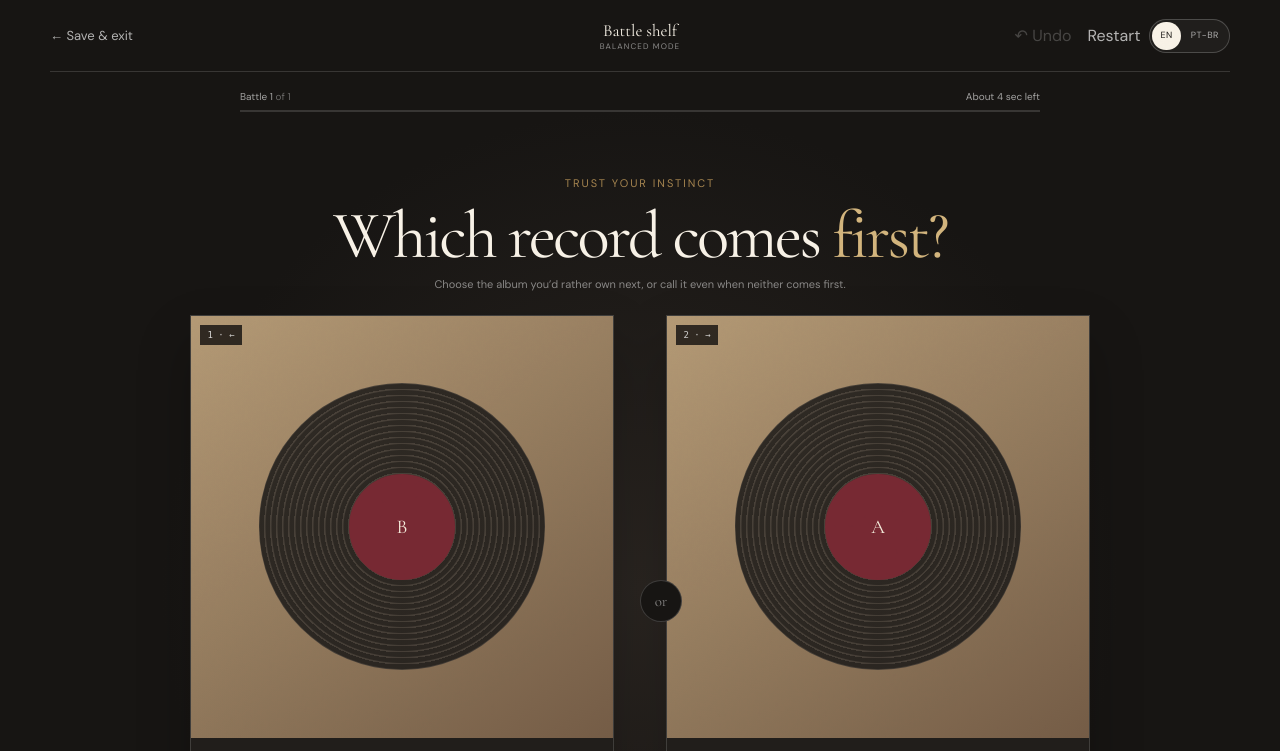
Test: localized application › preserves the active matchup and stored decisions while switching battle language
The width and height of the screenshot is (1280, 751).
Click the button with aria-label "usar português do brasil" at (1205, 36), box [1183,22,1227,50]
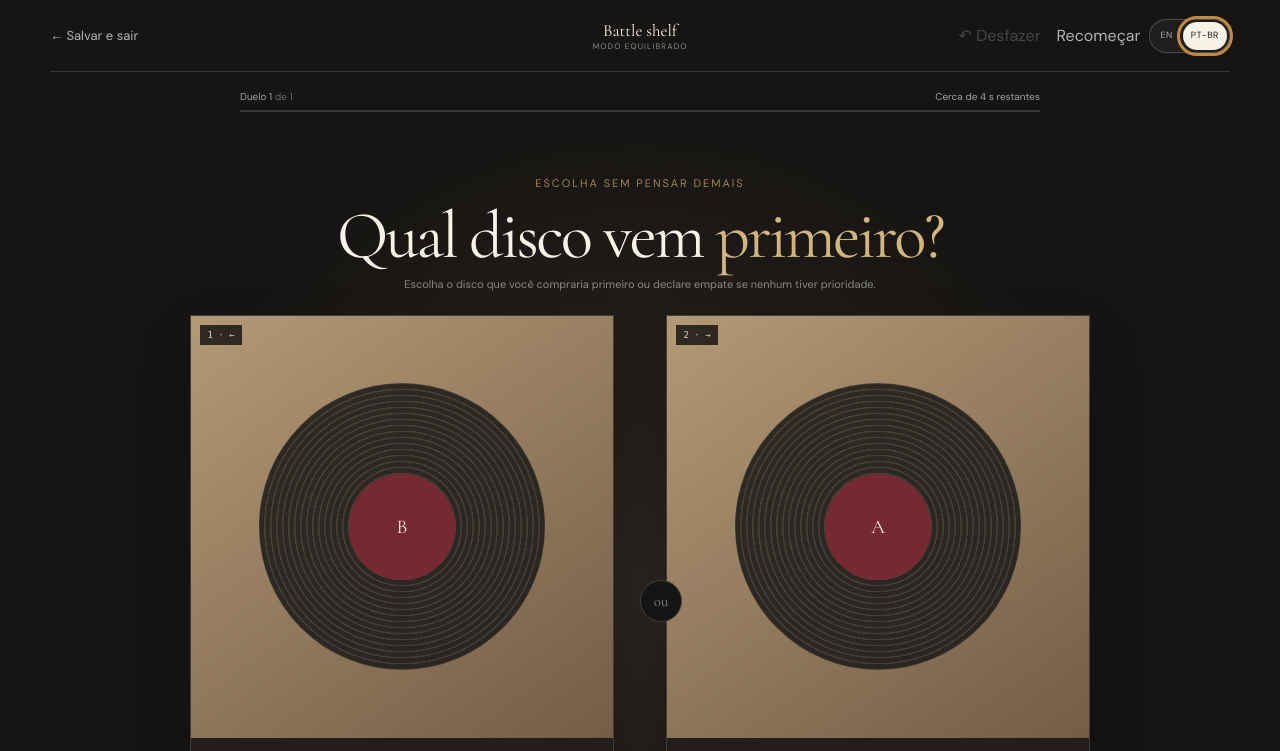
expect the heading "Qual disco vem primeiro?" is shown: met, box [337,195,943,276]
Press 0
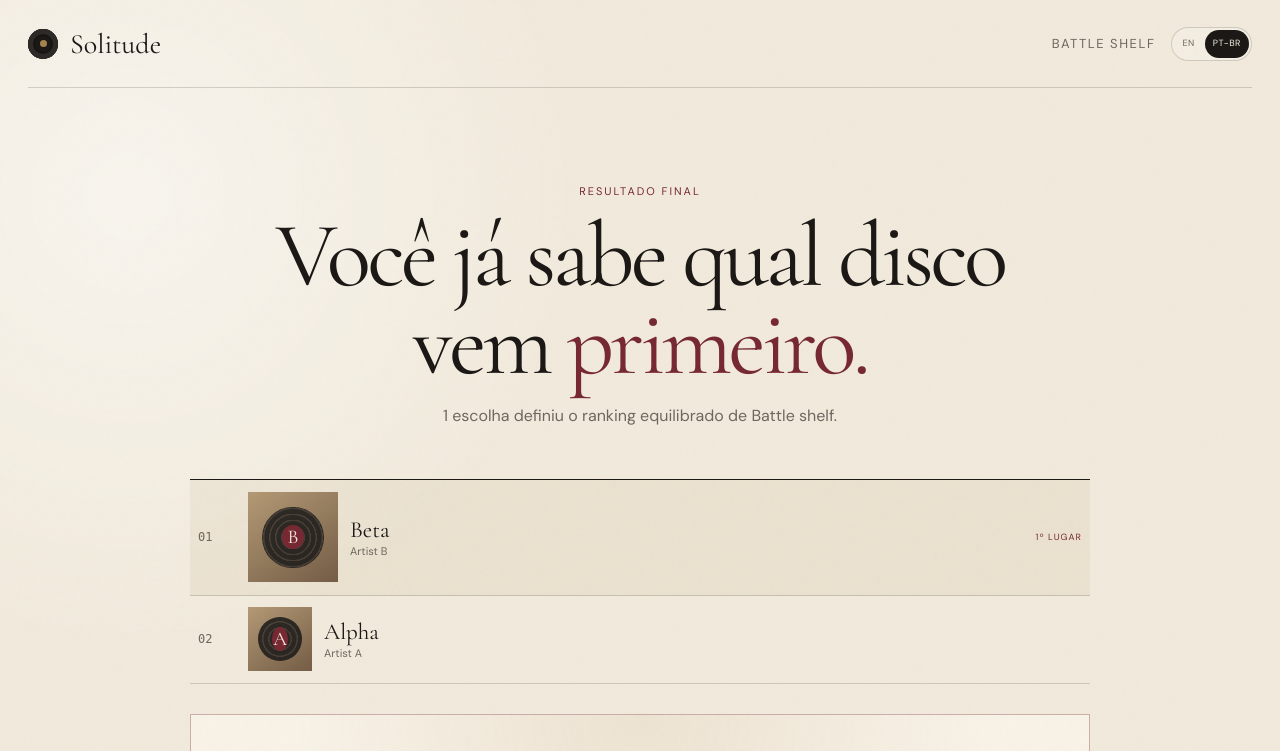
expect the heading named "você já sabe qual disco vem primeiro" is shown: met, box [276,200,1004,399]
